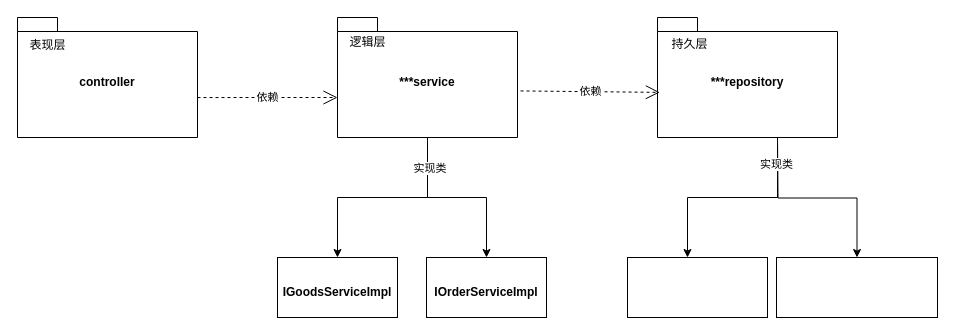
This 955x335 diagram has some shape labels left out. Here are the shapes that lost their labels. From the top down, the centre of each, then its label:
the point at 697,287: IGoodsRepositoryImpl
the point at 857,287: IOrderRepositoryImpl
